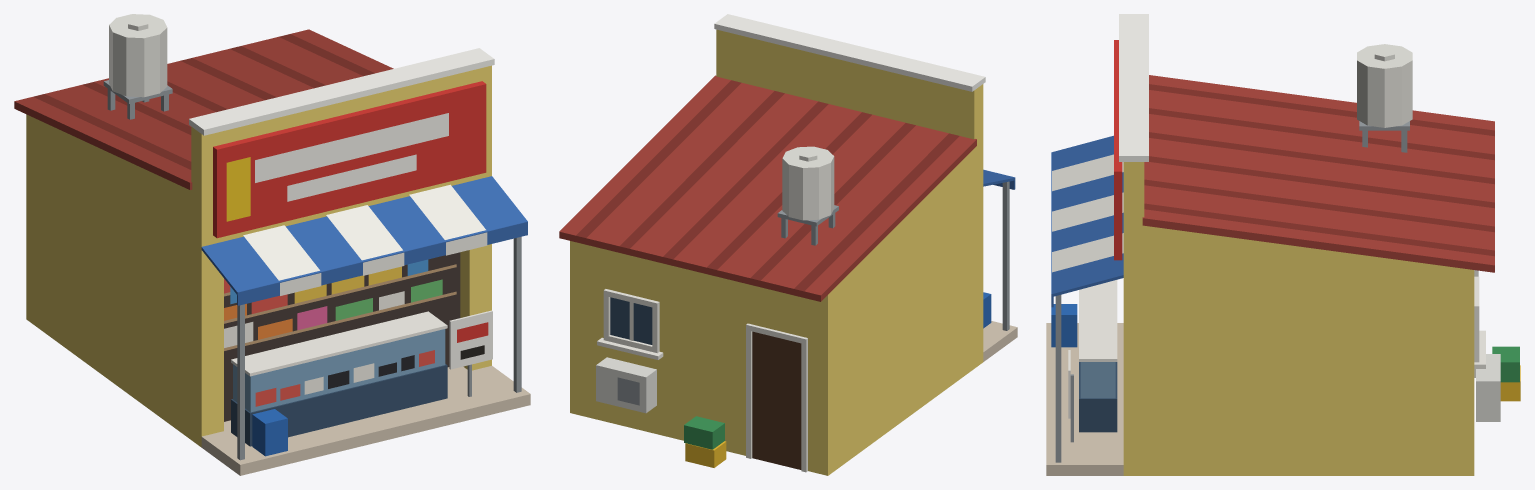
Rendered from warung_04.glb.
The picture shows the model from 3 angles, left to right: view 1: azimuth 30°, elevation 25°; view 2: azimuth 150°, elevation 25°; view 3: azimuth 270°, elevation 25°; orthographic projection. The views are drawn at different scales.
Parts seen in each view (by area): view 1: warung_04; view 2: warung_04; view 3: warung_04.
Boxes of the visible parts, <box> form: warung_04: <box>14,14,530,475</box>; warung_04: <box>559,14,1017,475</box>; warung_04: <box>1046,14,1520,475</box>.
Bounding box in the file's own units: 4.18 × 4.33 × 5.82.
